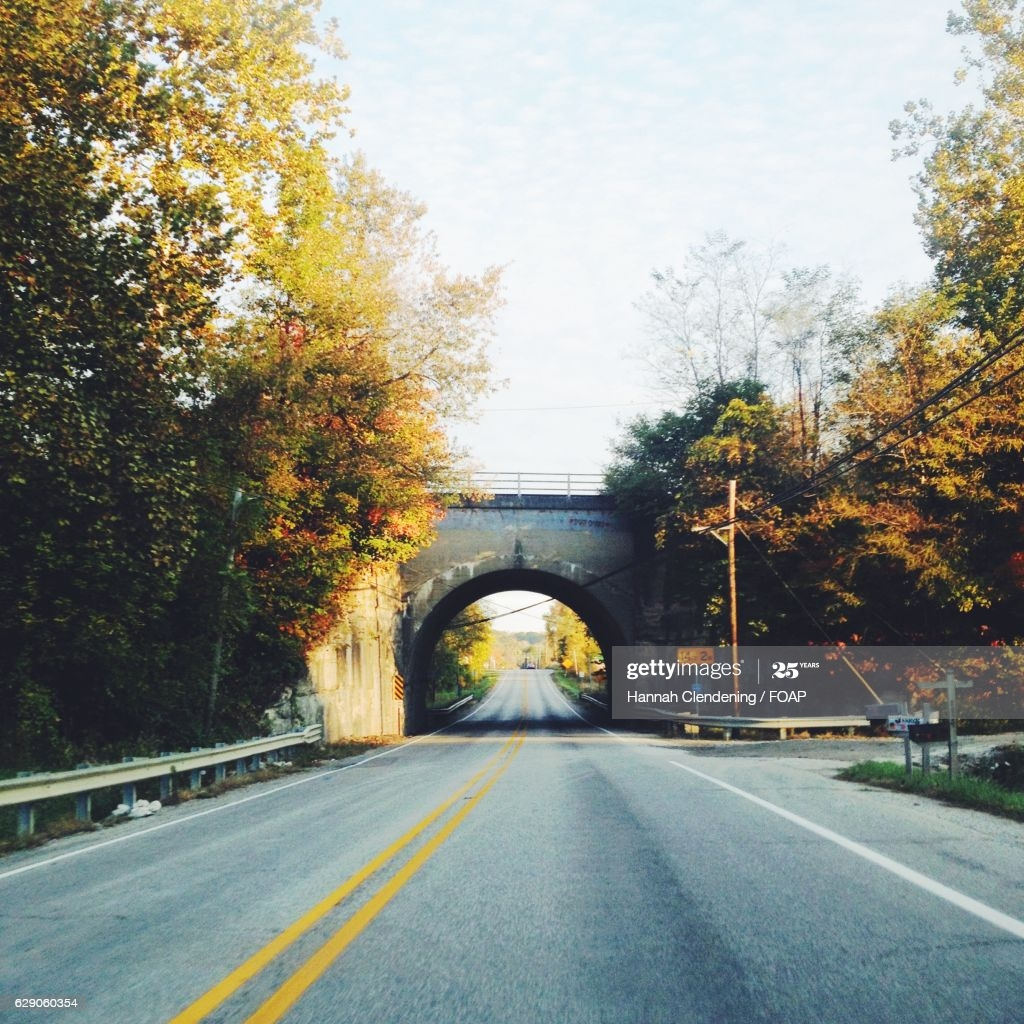bridge: (392, 470, 641, 658)
